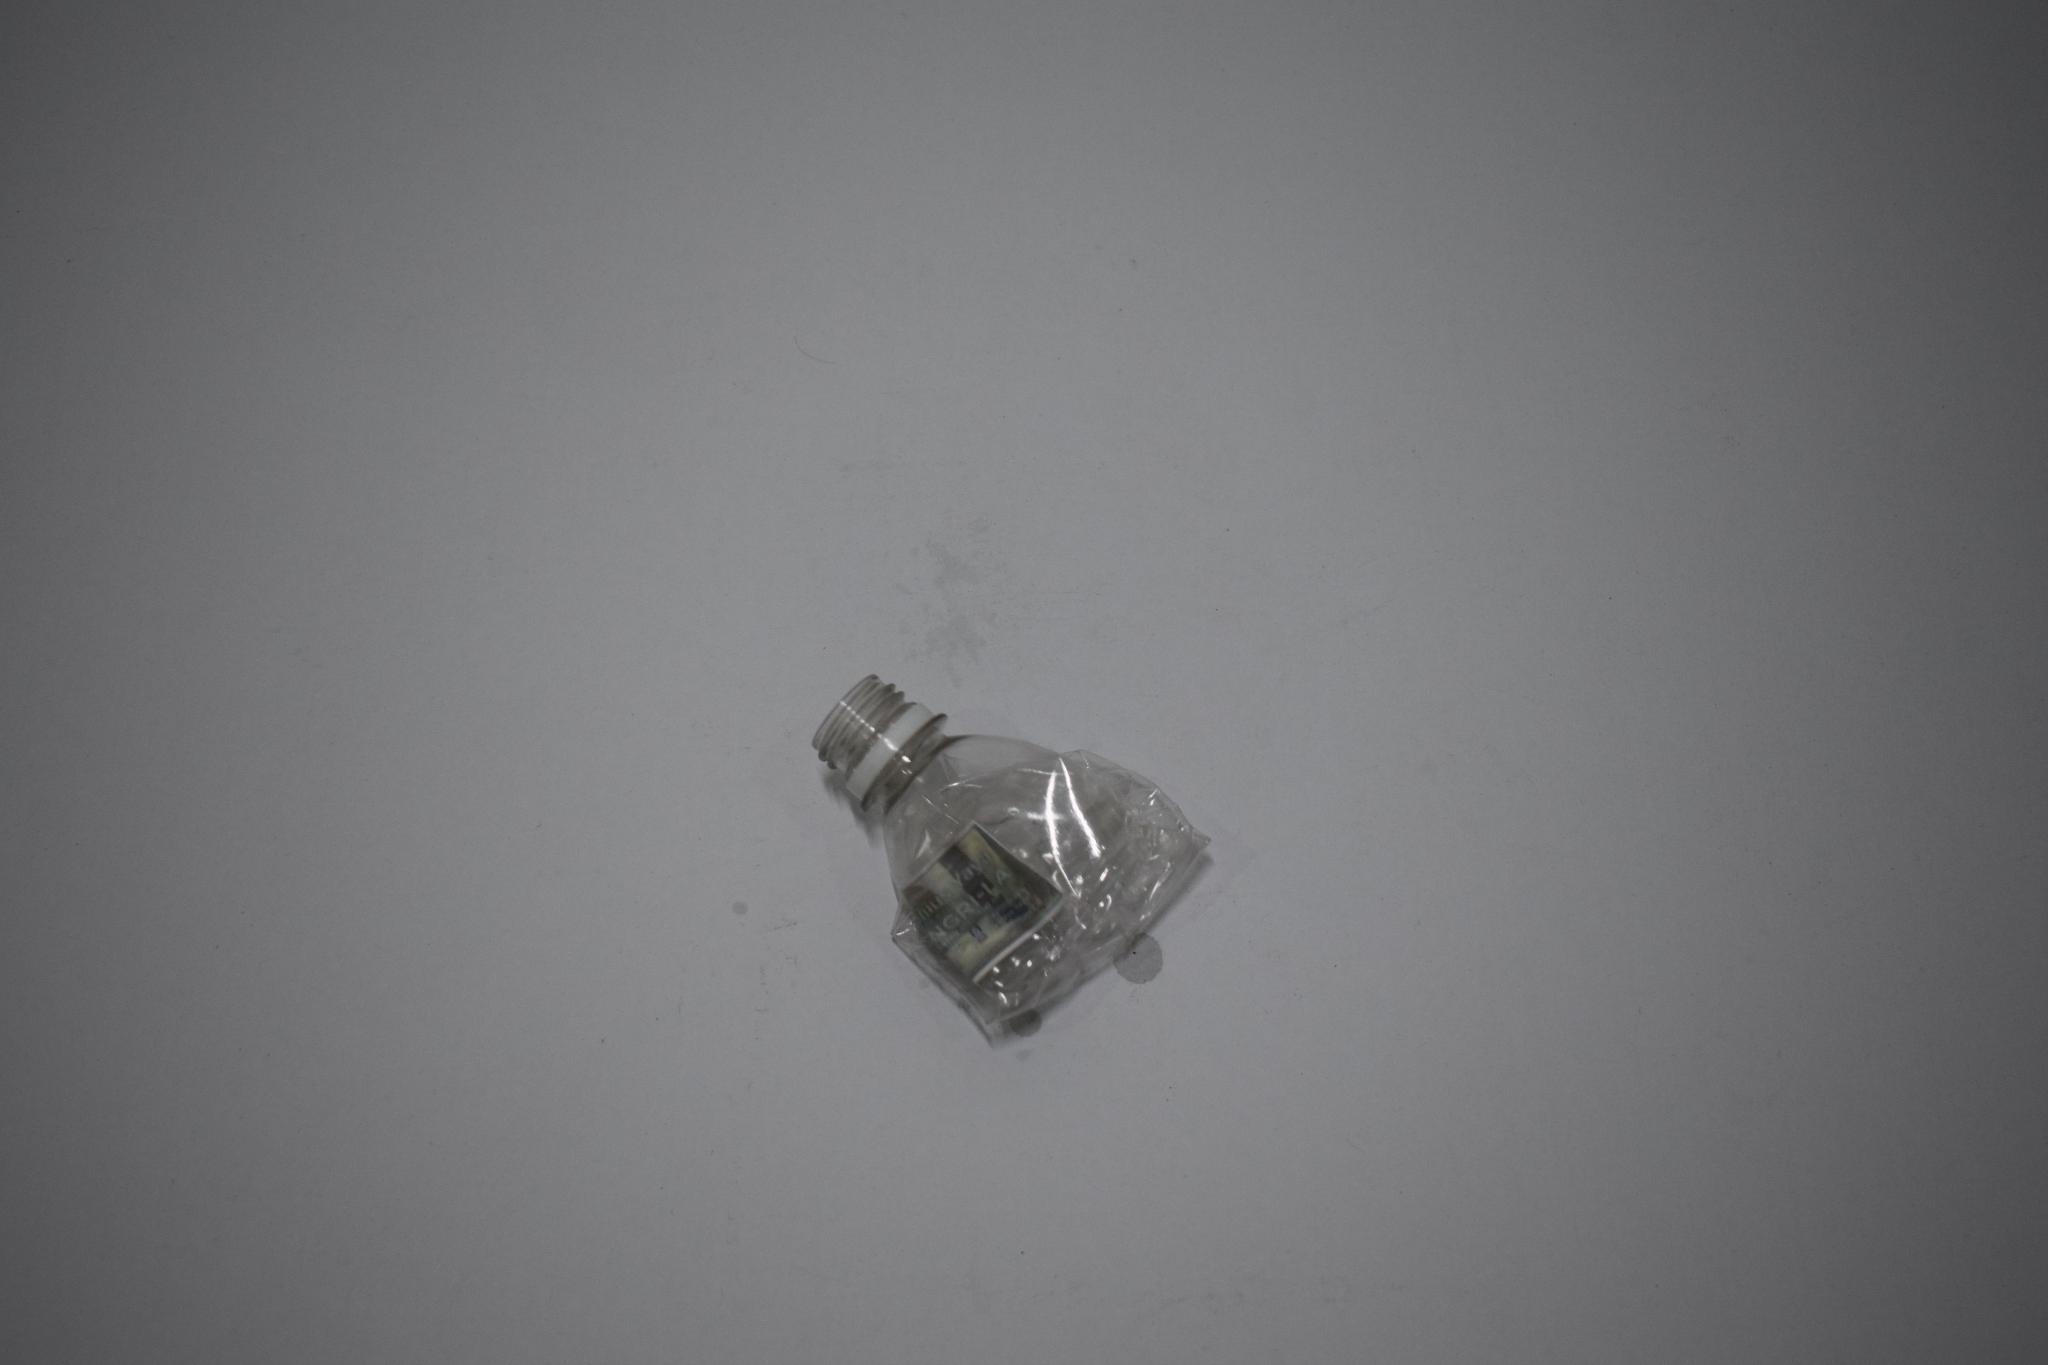bottle: (806, 666, 1218, 1050)
